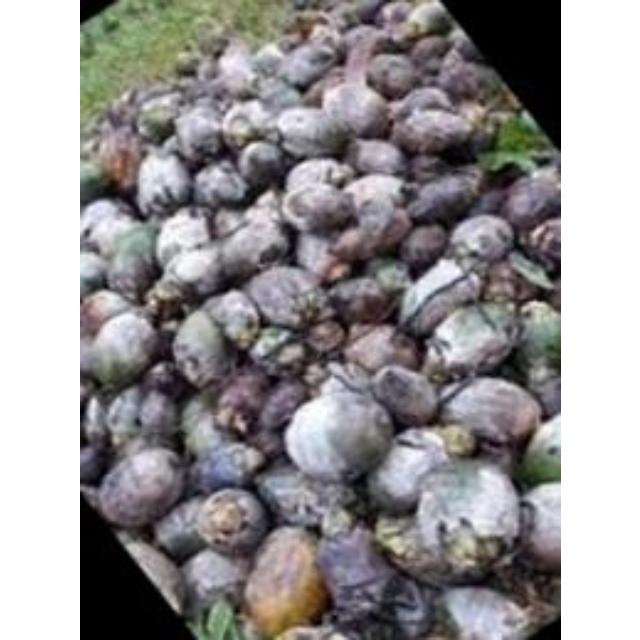damaged: (404, 458, 520, 574), (315, 524, 427, 640), (282, 383, 388, 482), (241, 526, 327, 636), (438, 376, 540, 454), (421, 302, 521, 380), (93, 446, 187, 528), (364, 426, 450, 512), (394, 258, 480, 338), (84, 312, 160, 391), (214, 206, 288, 280), (256, 464, 338, 530), (169, 307, 233, 388), (194, 486, 266, 552), (366, 366, 436, 428), (180, 546, 247, 610), (403, 170, 479, 226), (272, 103, 348, 159), (342, 322, 418, 376), (318, 80, 387, 138), (106, 226, 160, 300), (134, 148, 190, 218), (191, 441, 263, 494), (326, 275, 396, 327), (280, 183, 352, 233), (214, 368, 270, 432), (501, 172, 561, 230), (162, 244, 226, 298), (447, 213, 513, 265), (340, 172, 408, 222), (153, 208, 211, 266), (202, 290, 260, 346), (82, 200, 138, 258), (256, 378, 306, 439), (182, 402, 234, 460), (172, 105, 224, 163), (433, 47, 481, 103), (134, 384, 180, 442), (192, 160, 246, 208), (282, 157, 350, 195), (102, 385, 148, 441), (346, 136, 406, 178), (397, 223, 449, 270), (478, 258, 530, 304), (80, 288, 132, 334), (237, 141, 286, 189), (518, 216, 560, 272), (134, 92, 182, 140), (213, 44, 259, 94), (364, 52, 416, 96), (220, 100, 266, 148), (327, 223, 378, 265), (248, 327, 298, 369), (391, 86, 451, 120), (407, 150, 455, 184), (339, 23, 387, 57), (255, 78, 301, 112), (366, 257, 409, 293), (459, 114, 496, 154), (406, 34, 449, 68), (81, 393, 109, 445), (306, 317, 346, 353), (246, 428, 284, 464), (210, 206, 247, 238), (248, 44, 284, 76), (448, 32, 482, 64), (302, 74, 334, 106), (378, 0, 412, 28), (300, 358, 330, 389), (193, 56, 221, 84), (254, 186, 282, 212), (323, 260, 351, 286), (173, 52, 200, 76)
